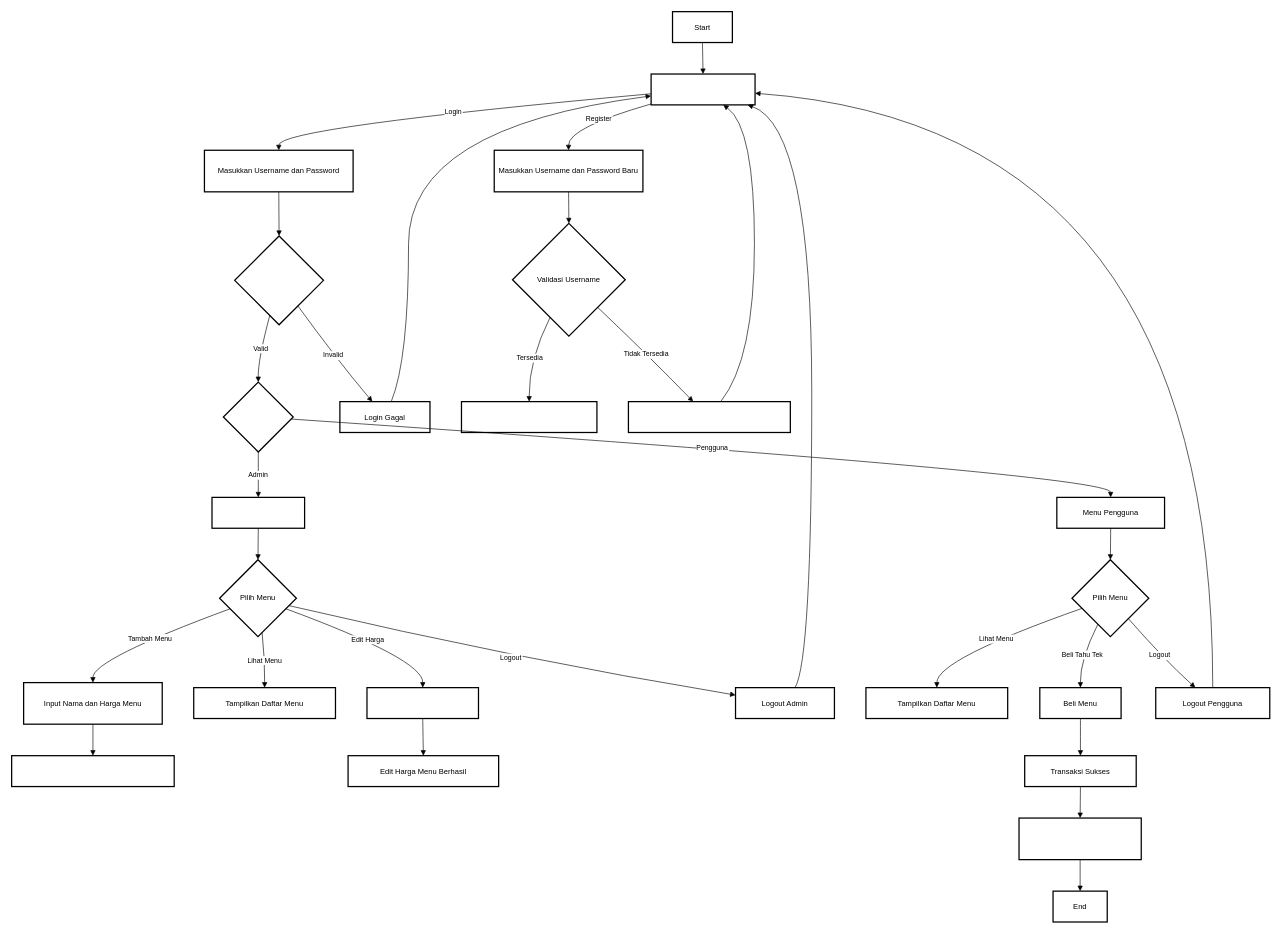
The diagram is 1281 pixels wide and 933 high, and some of its shapes have lost their labels. The centre of each missing label's shape, as x and y in pixels:
Cek Role: (x=258, y=416)
Daftar Pengguna Baru: (x=529, y=417)
Edit Harga Menu: (x=422, y=703)
Login/Register: (x=702, y=89)
Menu Admin: (x=258, y=512)
Menu Berhasil Ditambahkan: (x=93, y=771)
Terima Kasih Telah Bertransaksi!: (x=1080, y=838)
Username Sudah Digunakan: (x=709, y=417)
Validasi User: (x=279, y=280)
